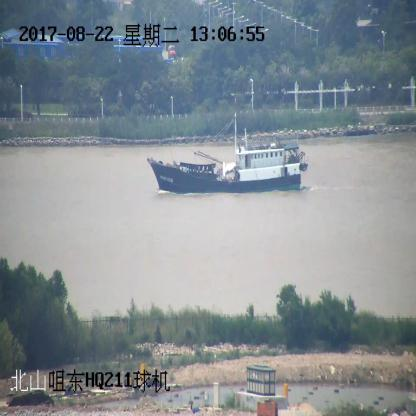Fishing Boat: (147, 111, 306, 194)
